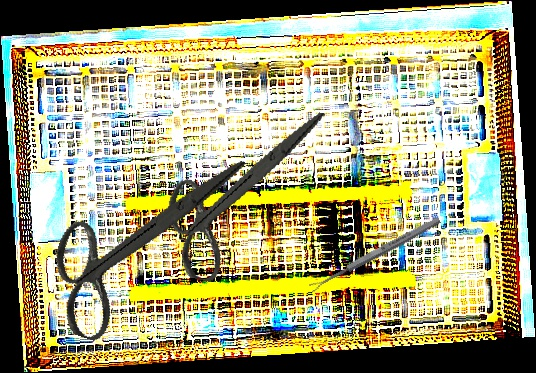Iris Scissors: (33, 113, 247, 370), (152, 83, 328, 300)
Surgical Spoon: (308, 215, 442, 293)
